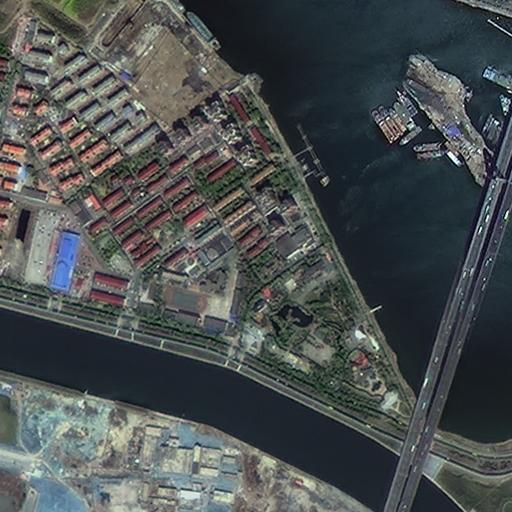school: (133, 232, 249, 331)
